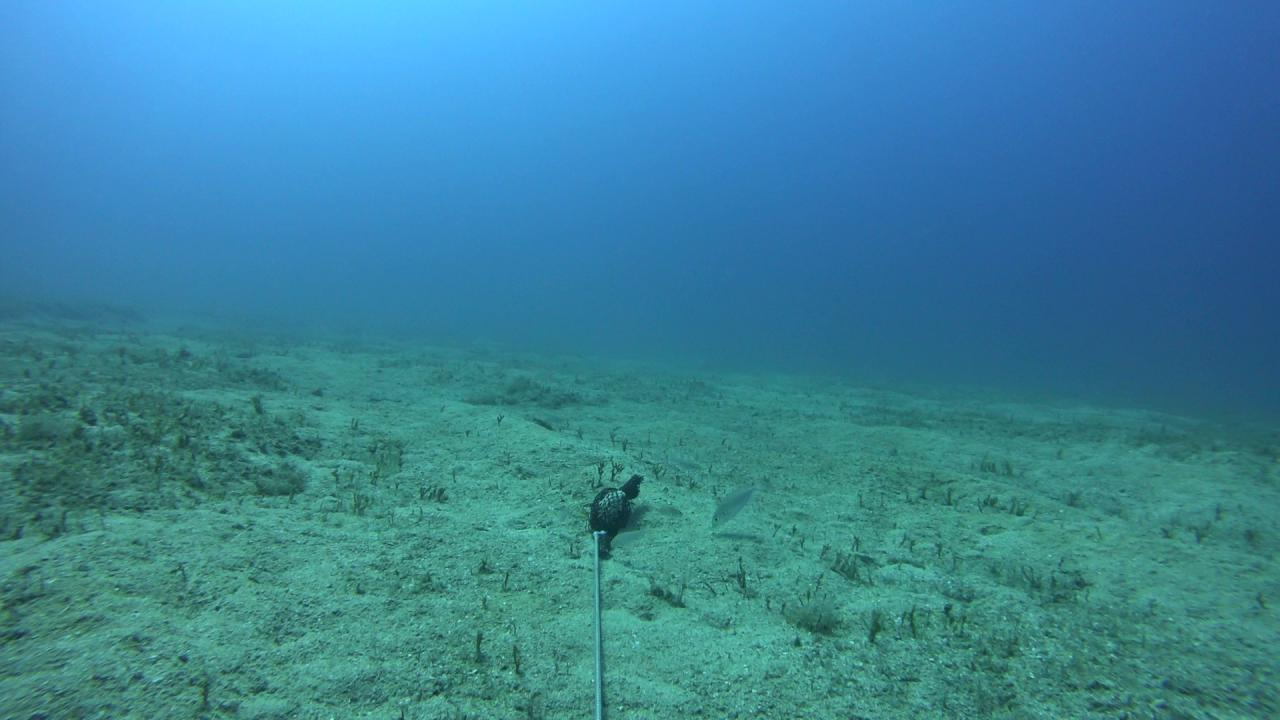pagellus: (707, 471, 770, 533)
